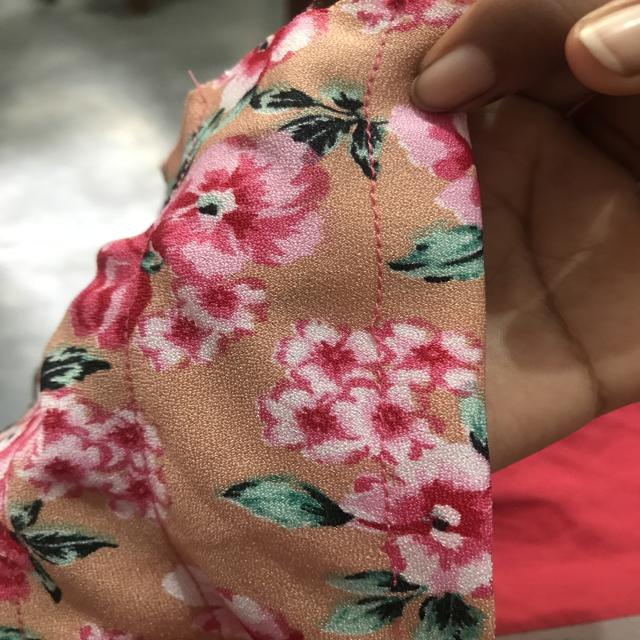good: (358, 187, 408, 280)
skip: (341, 300, 398, 353)
